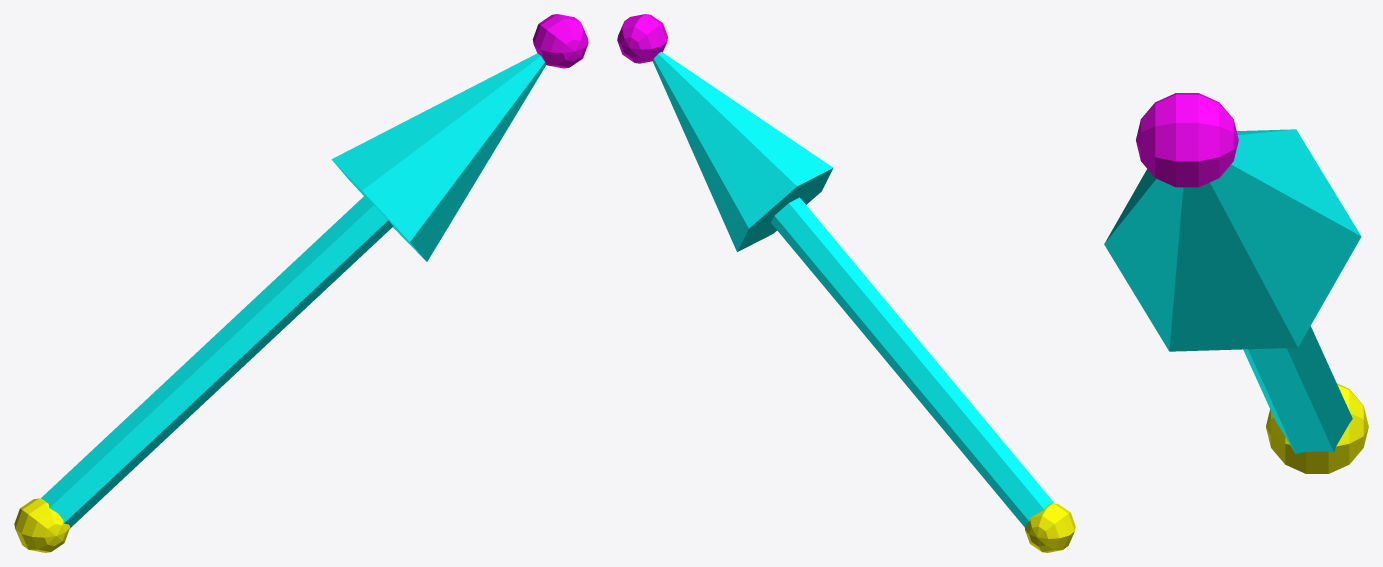
The model's file is lights.gltf.
The picture shows the model from 3 angles, left to right: view 1: azimuth 30°, elevation 25°; view 2: azimuth 150°, elevation 25°; view 3: azimuth 270°, elevation 25°; orthographic projection. The views are drawn at different scales.
Visible parts, largest first — view 1: Renderer Node; view 2: Renderer Node; view 3: Renderer Node.
Boxes of the visible parts, x1=… form: Renderer Node: x1=14, y1=14, x2=588, y2=552; Renderer Node: x1=617, y1=14, x2=1075, y2=552; Renderer Node: x1=1104, y1=93, x2=1368, y2=473.
Size of the model in its own units: 17.34 by 13.82 by 4.11.
